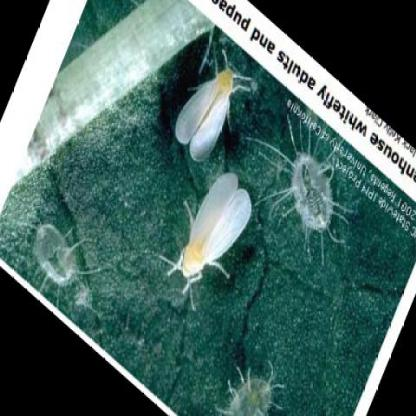whitefly: (181, 172, 251, 275), (175, 64, 233, 161)
